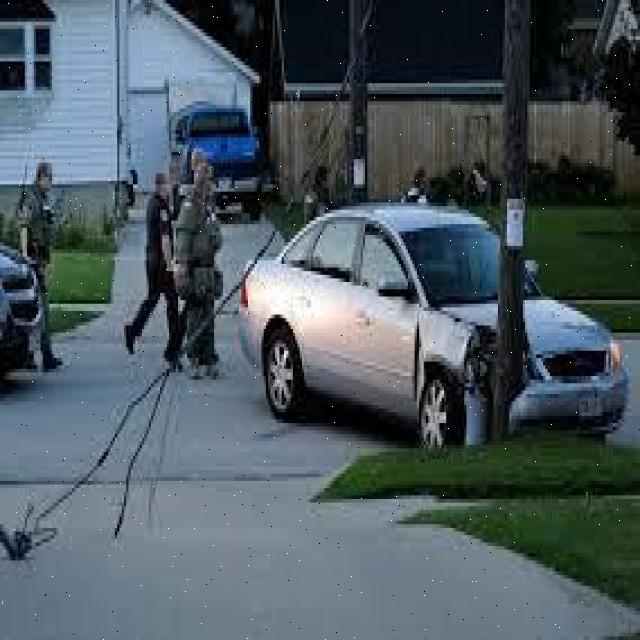moderate: (234, 173, 626, 444)
